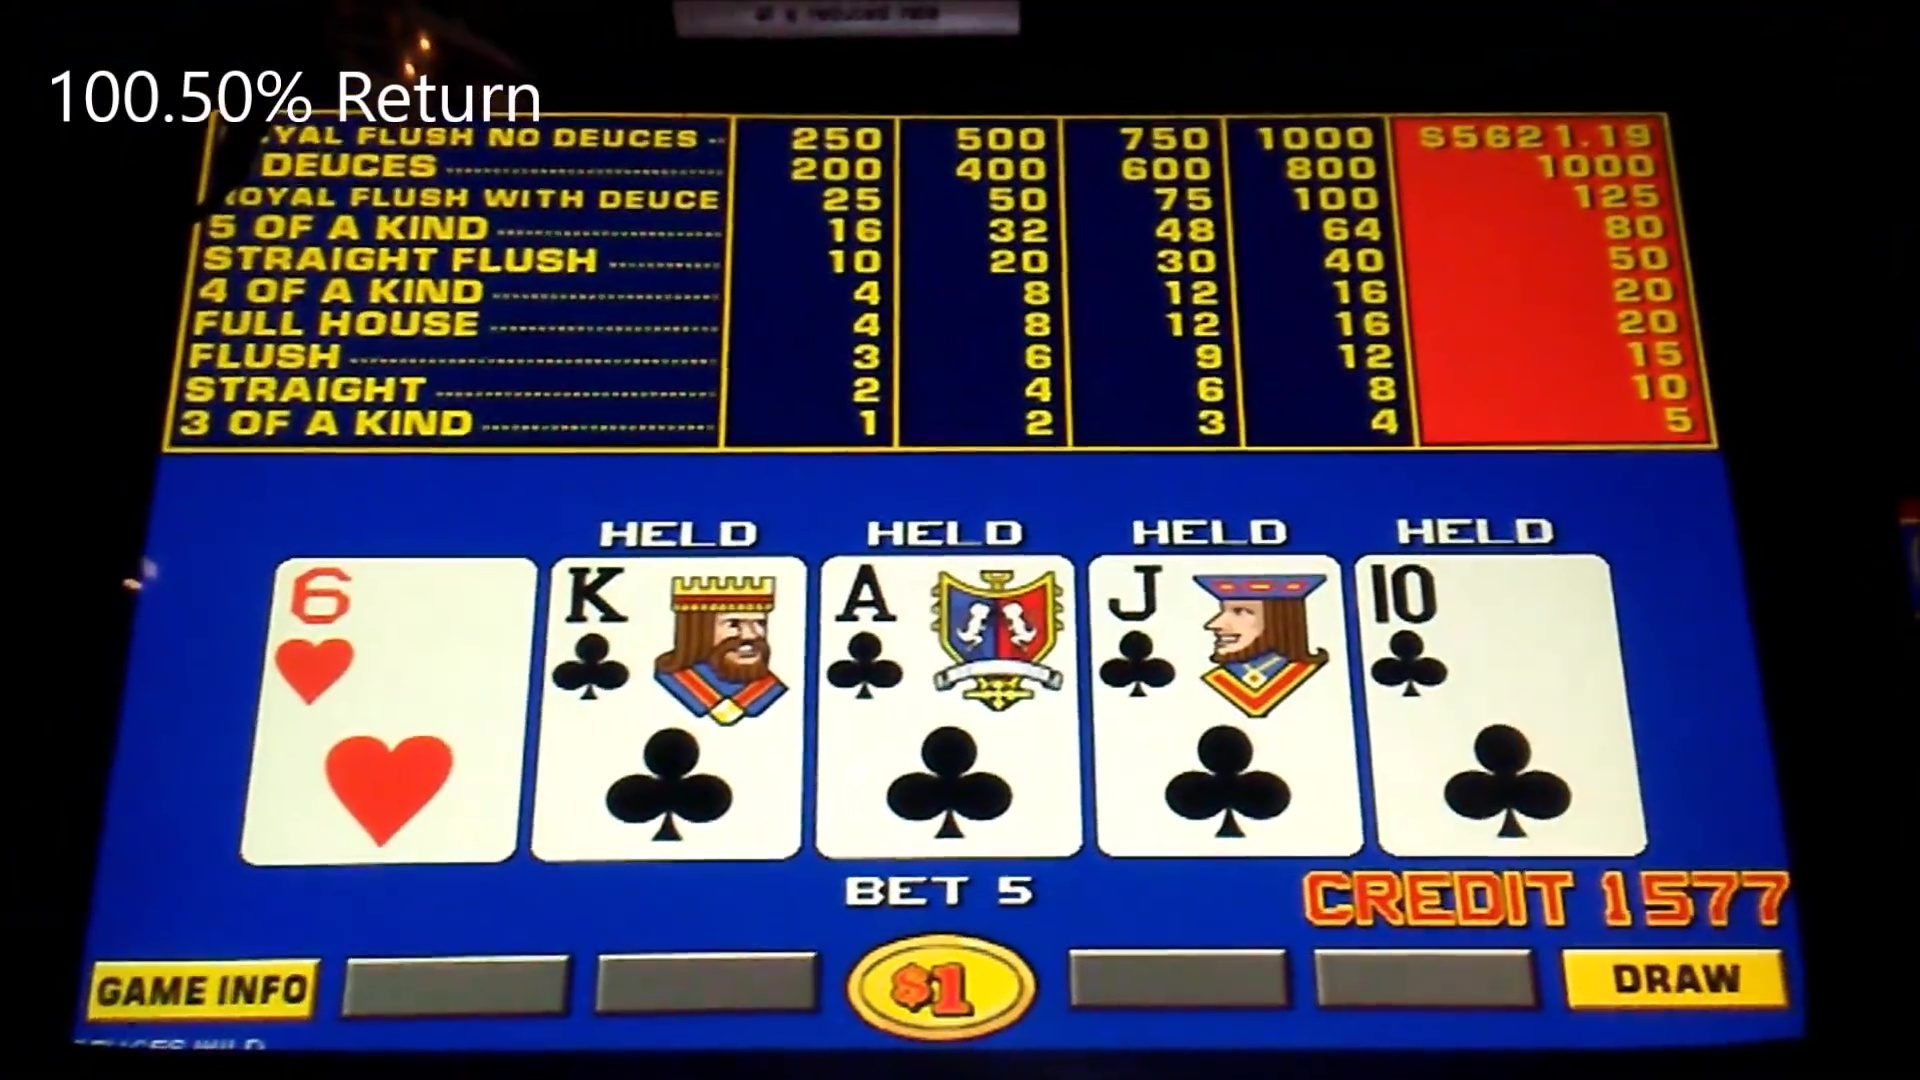CA: (820, 555, 1069, 717)
CJ: (1093, 556, 1333, 723)
CK: (550, 563, 790, 724)
CT: (1367, 555, 1626, 719)
H6: (264, 556, 517, 723)
